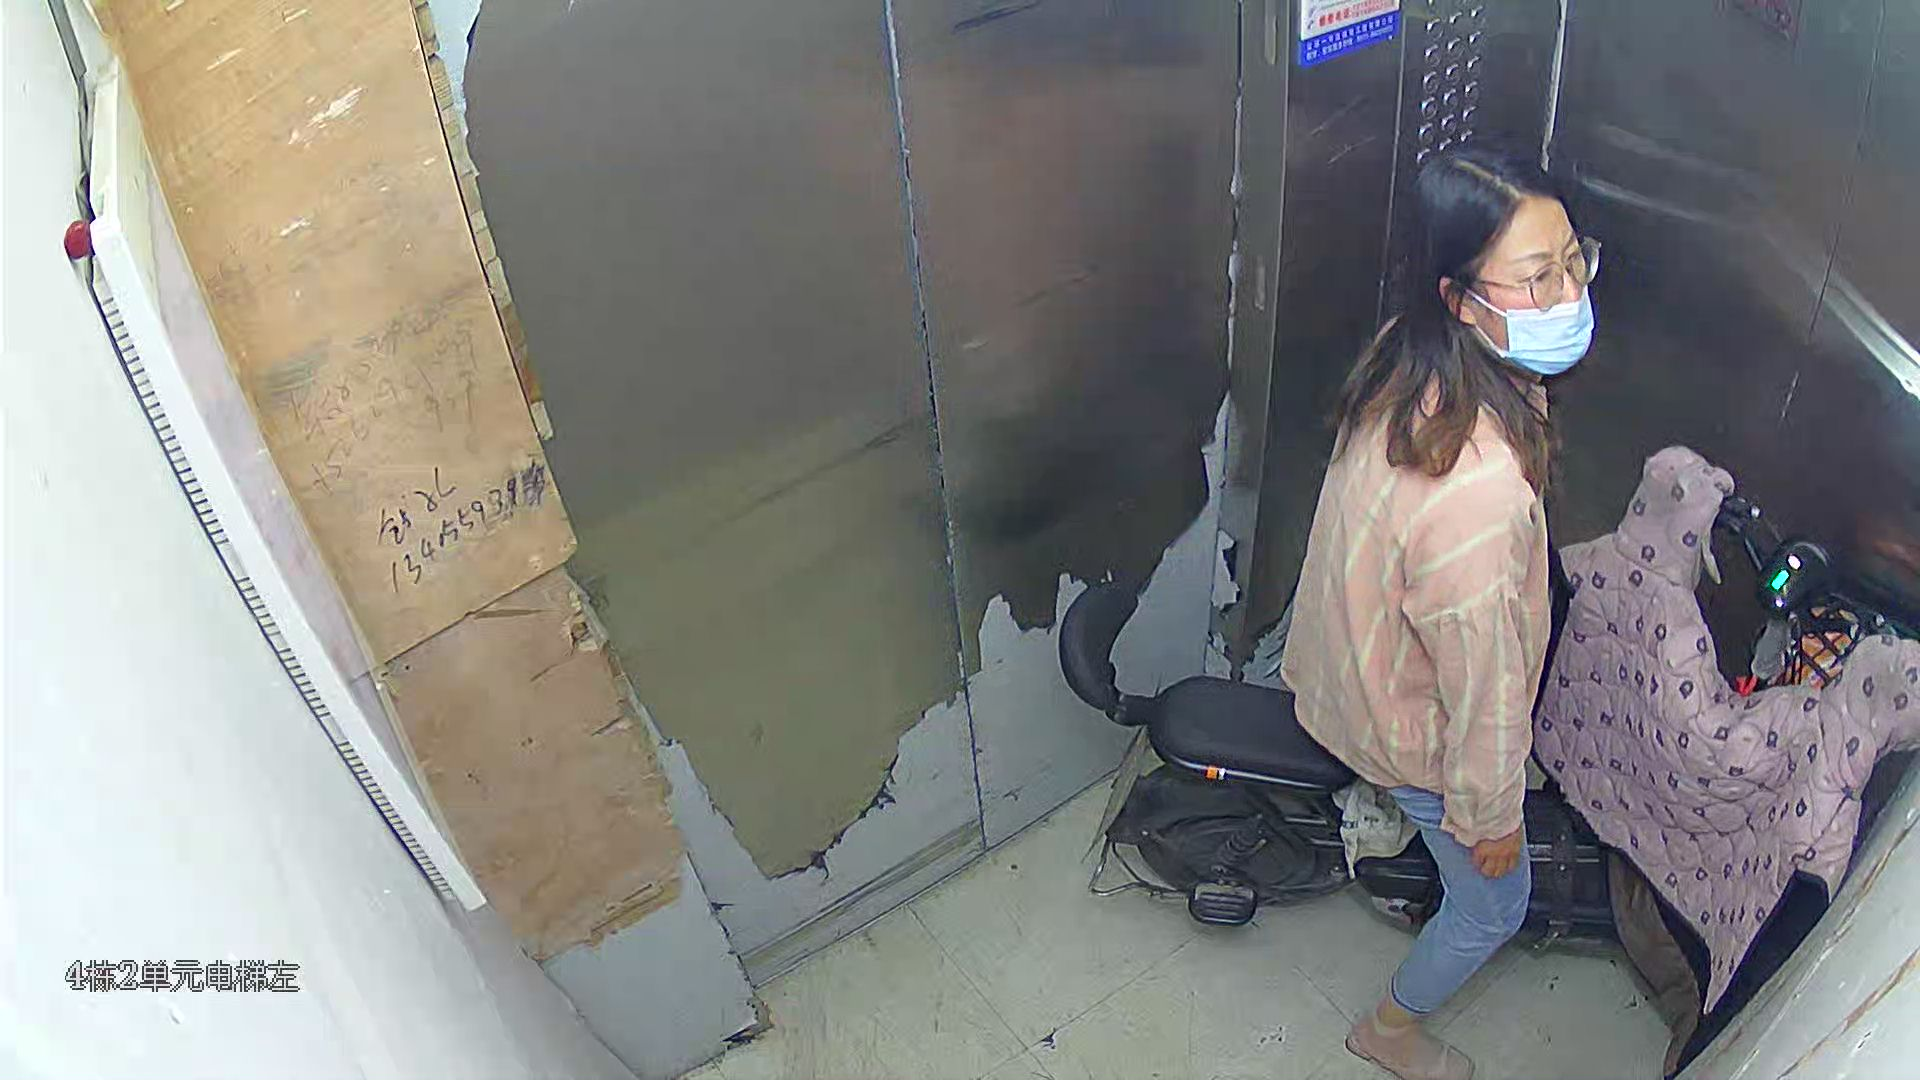Electric-bicycle: (1065, 440, 1917, 1036)
